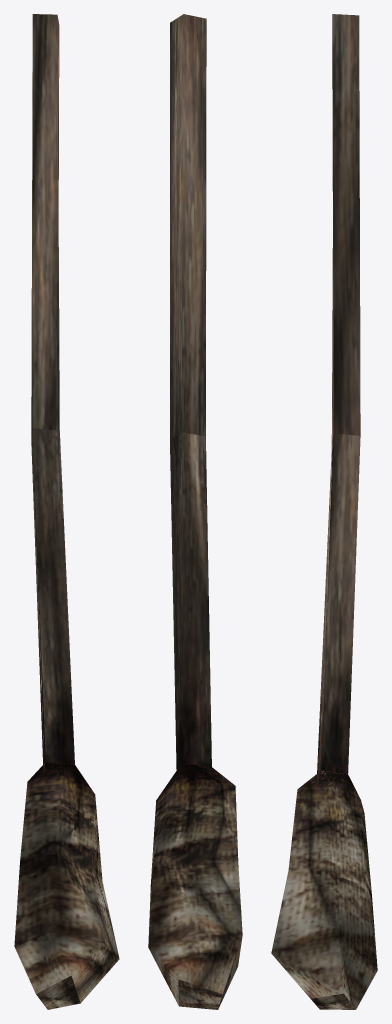
3 renders of one model, left to right at view 1: azimuth 90°, elevation 25°; view 2: azimuth 150°, elevation 25°; view 3: azimuth 270°, elevation 25°, orthographic.
Visible parts, largest first — view 1: mesh0; view 2: mesh0; view 3: mesh0.
Boxes of the visible parts, <box> form: mesh0: <box>14,14,119,1009</box>; mesh0: <box>148,14,242,1009</box>; mesh0: <box>271,14,377,1009</box>.
Size of the model in its own units: 0.0897 by 0.9539 by 0.0931.
Materials: 1 (1 with a texture image).
